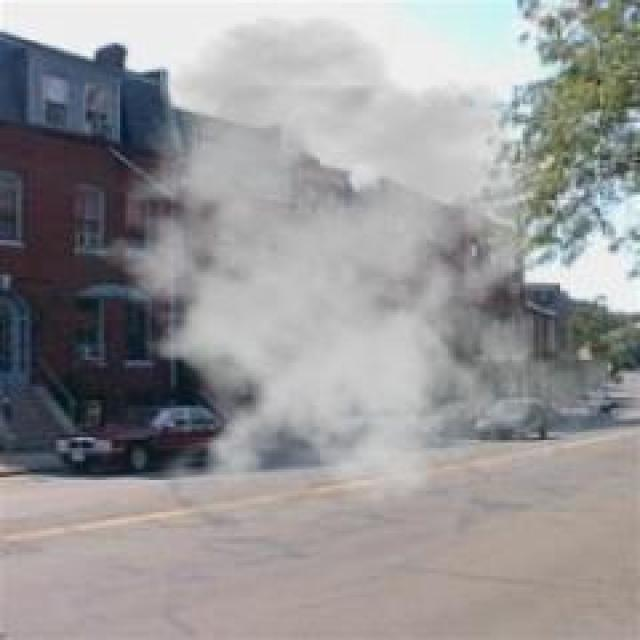smoke: (71, 15, 613, 537)
